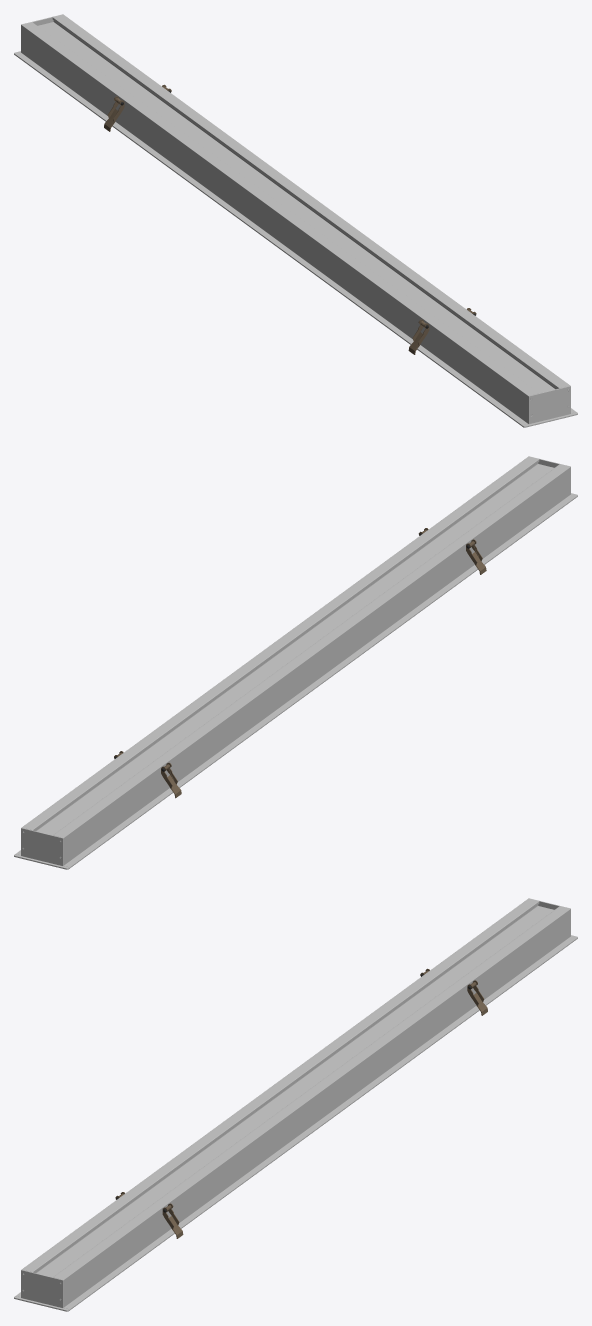
The model's file is Light embedded 32x63.fbx.
3 renders of one model, top to bottom at view 1: azimuth 30°, elevation 25°; view 2: azimuth 150°, elevation 25°; view 3: azimuth 330°, elevation 25°, orthographic.
Parts seen in each view (by area): view 1: 32x63 body, Fasteners; view 2: 32x63 body, Fasteners; view 3: 32x63 body, Fasteners.
Boxes of the visible parts, x1,y1,x2,y2 form: 32x63 body: (14,14,577,427); Fasteners: (104,84,476,354); 32x63 body: (14,456,577,869); Fasteners: (114,528,486,798); 32x63 body: (14,898,577,1311); Fasteners: (115,968,487,1238).
Size of the model in its own units: 82.02 by 1005 by 32.19.
